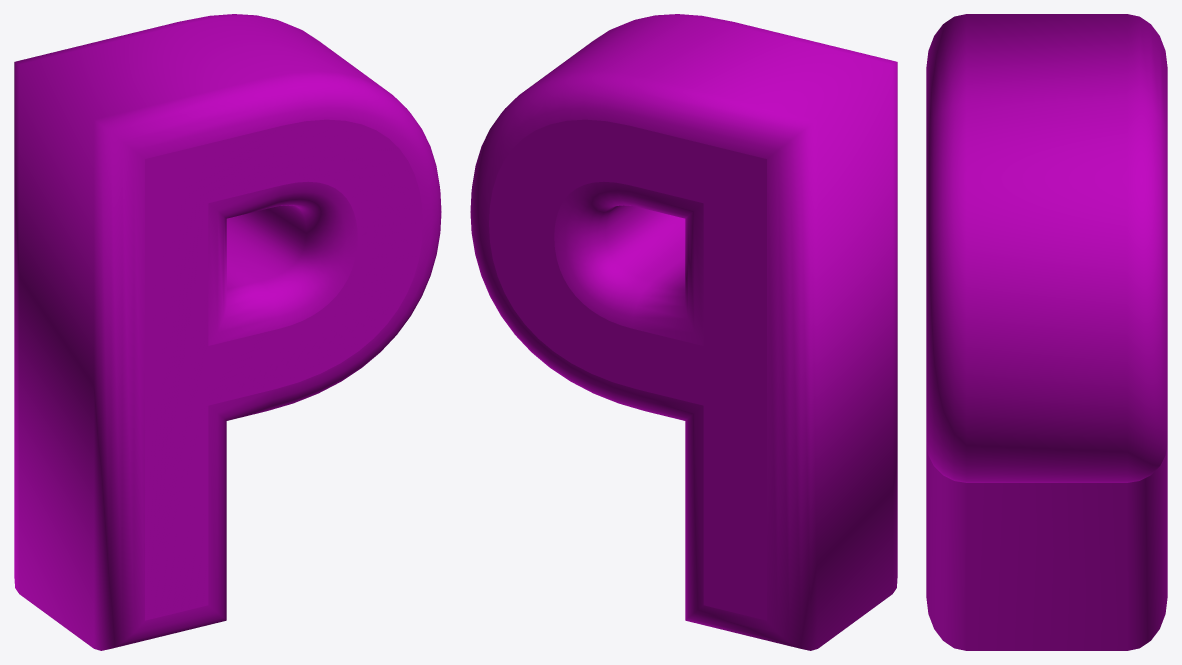
3 renders of one model, left to right at view 1: azimuth 30°, elevation 25°; view 2: azimuth 150°, elevation 25°; view 3: azimuth 270°, elevation 25°, orthographic. The views are drawn at different scales.
Parts seen in each view (by area): view 1: Text; view 2: Text; view 3: Text.
Boxes of the visible parts, x1,y1,x2,y2 form: Text: (14, 14, 441, 650); Text: (470, 14, 897, 650); Text: (926, 14, 1167, 650).
Bounding box in the file's own units: 1.59 × 2.35 × 0.9.
